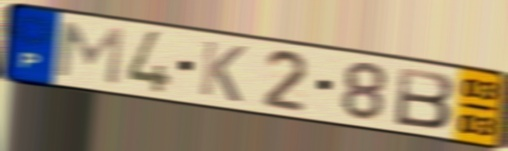2: (261, 49, 311, 115)
4: (124, 28, 176, 97)
8: (339, 60, 390, 123)
B: (392, 64, 458, 131)
K: (196, 37, 249, 105)
M: (52, 19, 127, 88)
